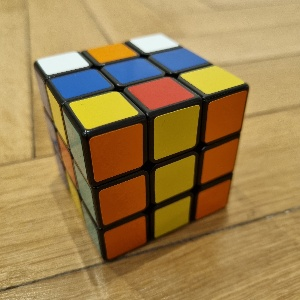cube: (33, 33, 250, 266)
